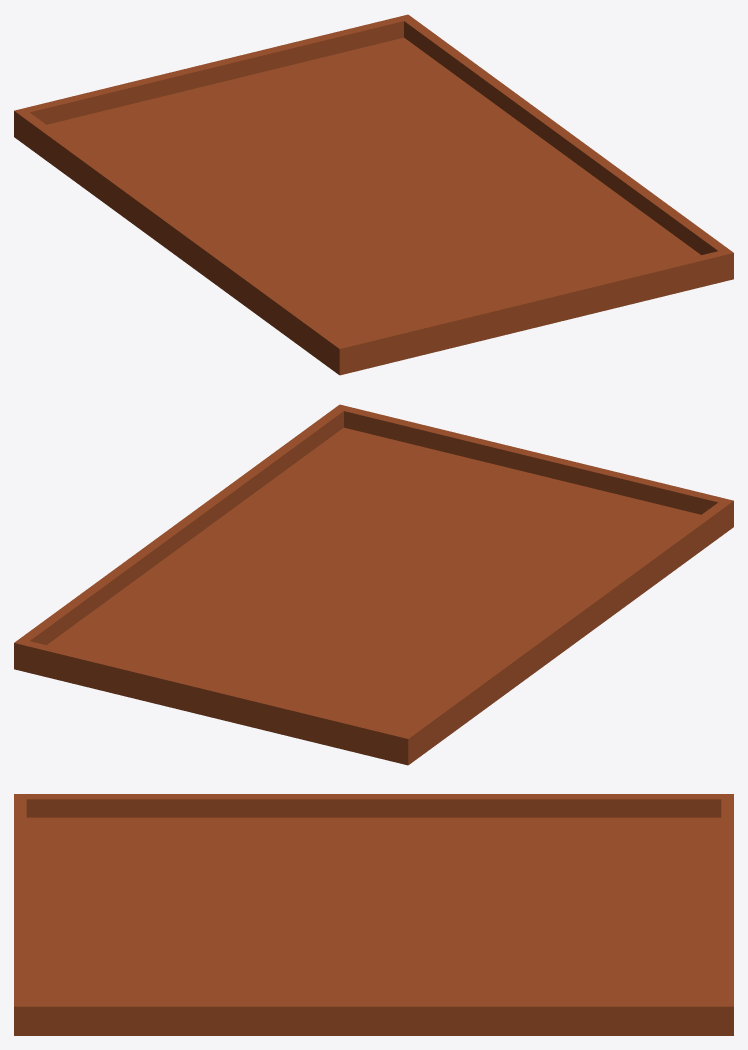
Rendered from ROOF1.fbx.
3 views of the same model, one above another, from view 1: azimuth 30°, elevation 25°; view 2: azimuth 150°, elevation 25°; view 3: azimuth 270°, elevation 25° (orthographic). The views are drawn at different scales.
Parts seen in each view (by area): view 1: ROOF1; view 2: ROOF1; view 3: ROOF1.
Part boxes in pixels (left/top/right/bottom): ROOF1: left=14, top=14, right=733, bottom=375; ROOF1: left=14, top=404, right=733, bottom=765; ROOF1: left=14, top=794, right=733, bottom=1035.
Bounding box in the file's own units: 705 × 45.15 × 1008.
